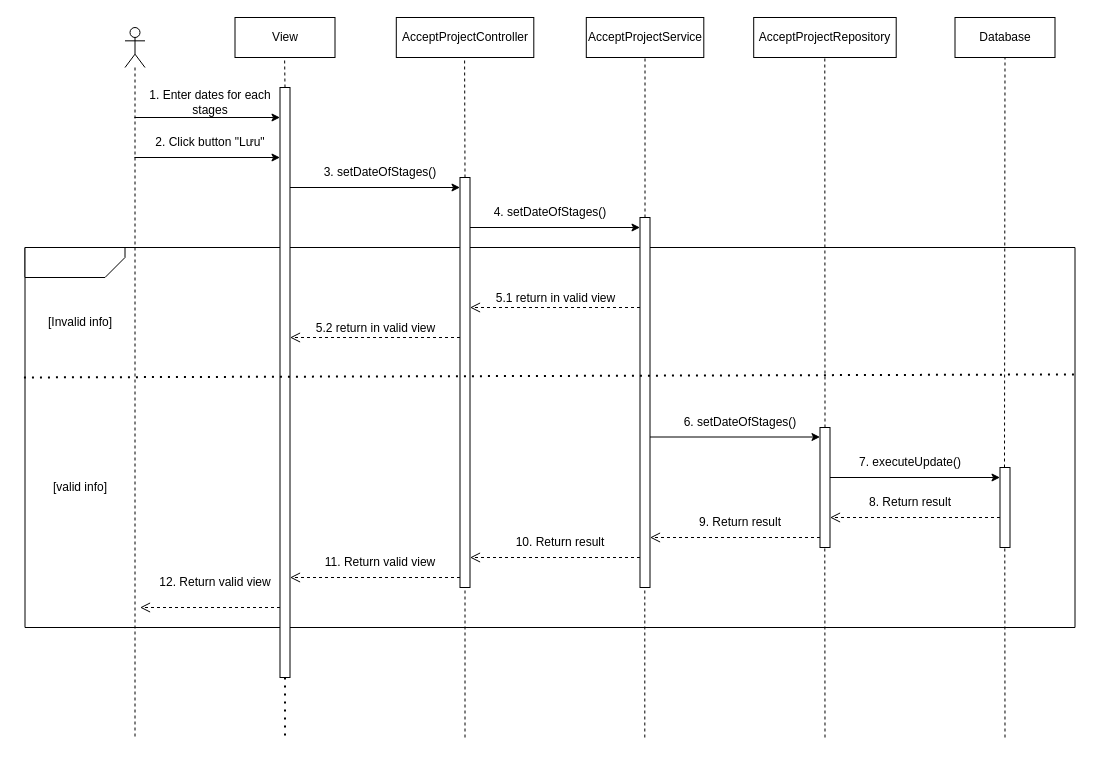
The diagram is 1097 pixels wide and 757 high, and some of its shapes have lost their labels. The box of each missing label's shape, as (x1, y1, x2, y2) in pixels:
alt validate dates of stages: (24, 246, 125, 278)
Teacher: (124, 26, 145, 738)
